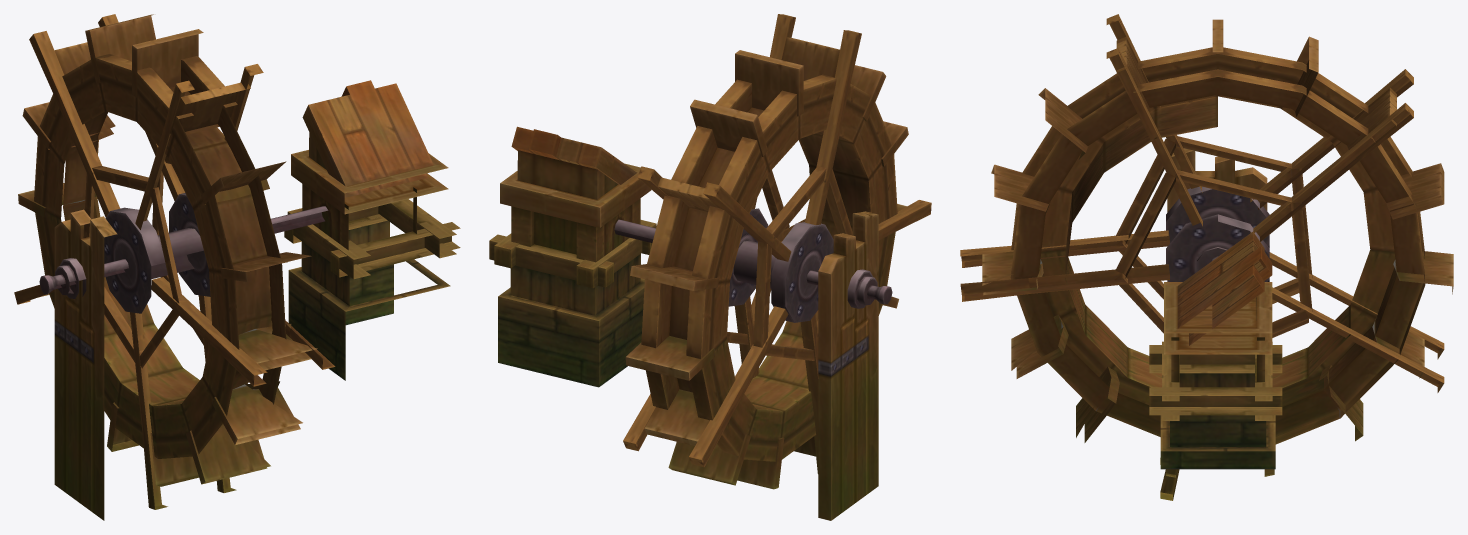
Rendered from Stage_ZhuCheng_ShuiChe02.FBX.
The picture shows the model from 3 angles, left to right: view 1: azimuth 30°, elevation 25°; view 2: azimuth 150°, elevation 25°; view 3: azimuth 270°, elevation 25°; orthographic projection. The views are drawn at different scales.
Visible parts, largest first — view 1: Stage_ZhuCheng_ShuiChe02; view 2: Stage_ZhuCheng_ShuiChe02; view 3: Stage_ZhuCheng_ShuiChe02.
Part boxes in pixels (box(x1,y1,x2,y2)): Stage_ZhuCheng_ShuiChe02: box(14, 14, 460, 520); Stage_ZhuCheng_ShuiChe02: box(489, 14, 931, 520); Stage_ZhuCheng_ShuiChe02: box(960, 14, 1453, 500).
Size of the model in its own units: 207 by 226 by 226.
